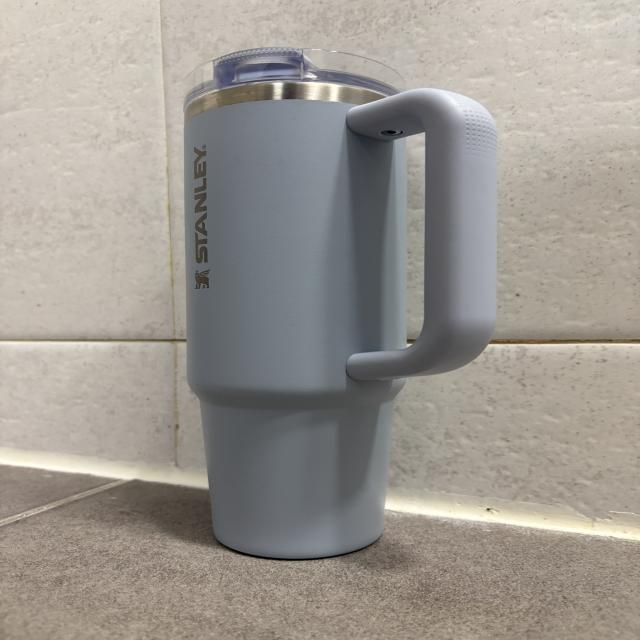waterbottle: (181, 48, 496, 559)
